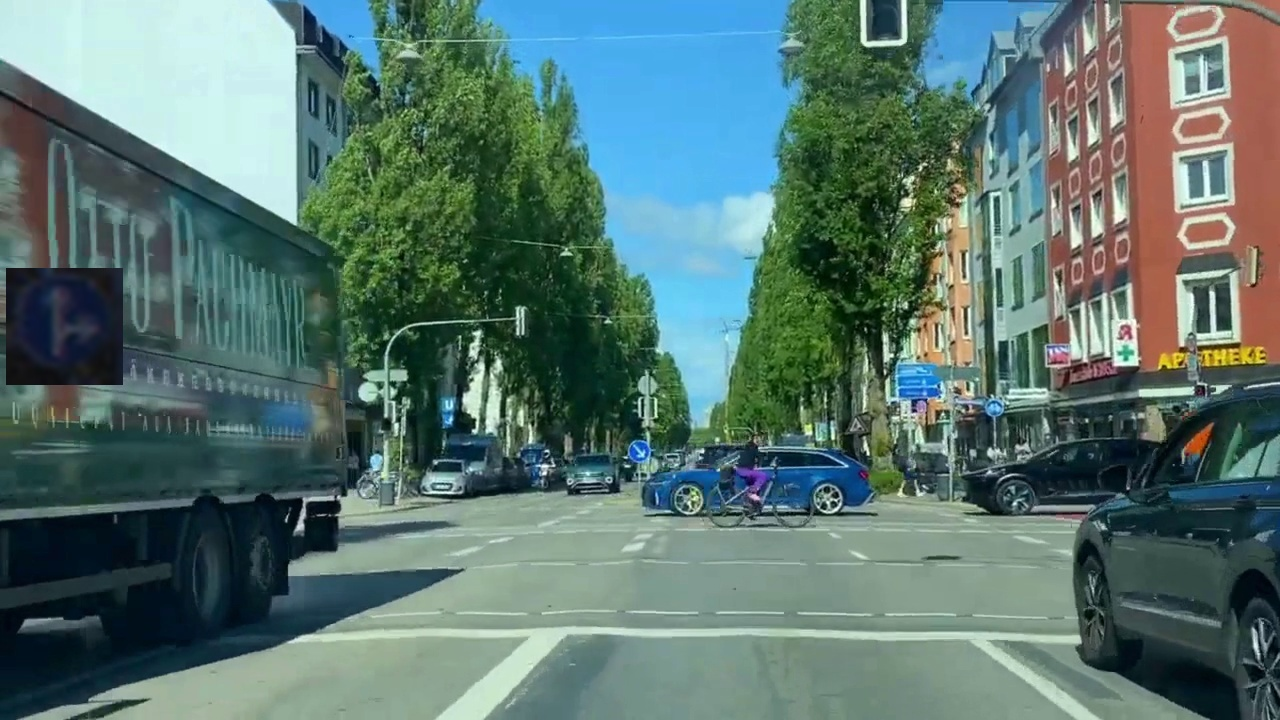Straight/right: (6, 268, 123, 385)
